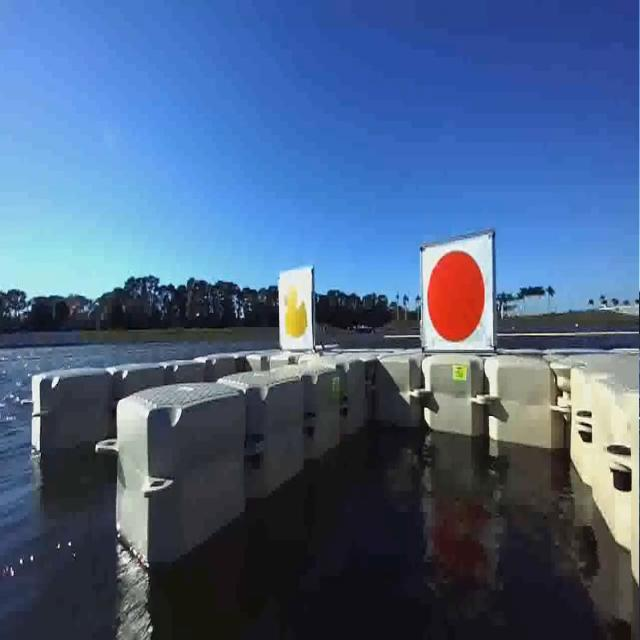red-dot: (419, 236, 496, 354)
yellow-duck: (277, 273, 315, 349)
